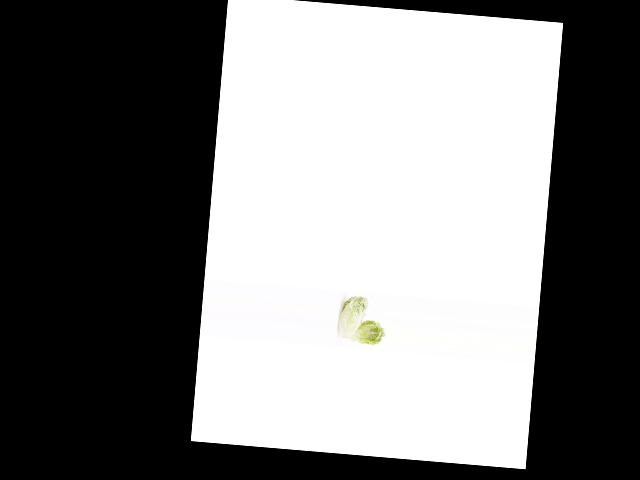lettuce: (335, 291, 371, 343)
